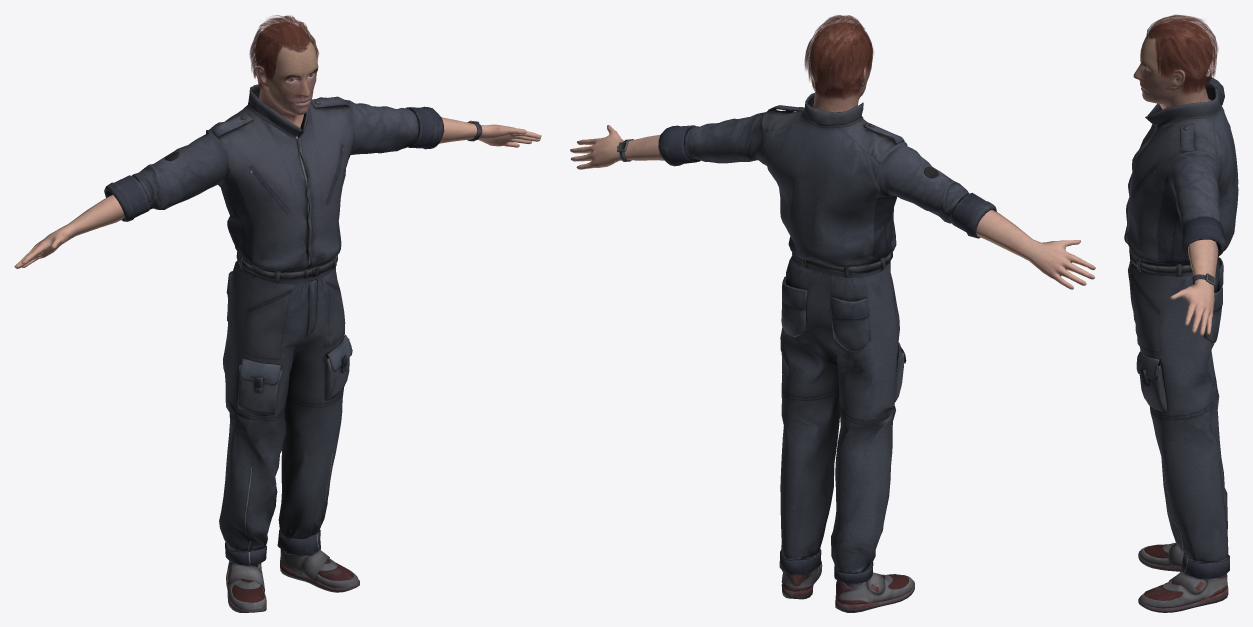
File: bishop.glb
The picture shows the model from 3 angles, left to right: view 1: azimuth 30°, elevation 25°; view 2: azimuth 150°, elevation 25°; view 3: azimuth 270°, elevation 25°; orthographic projection.
Parts seen in each view (by area): view 1: bishop; view 2: bishop; view 3: bishop.
Part boxes in pixels (x1,y1,x2,y2): bishop: (14,15,541,612); bishop: (570,15,1095,612); bishop: (1124,14,1238,612).
Bounding box in the file's own units: 1.68 × 1.74 × 0.3165.
5 materials, 5 textured.
